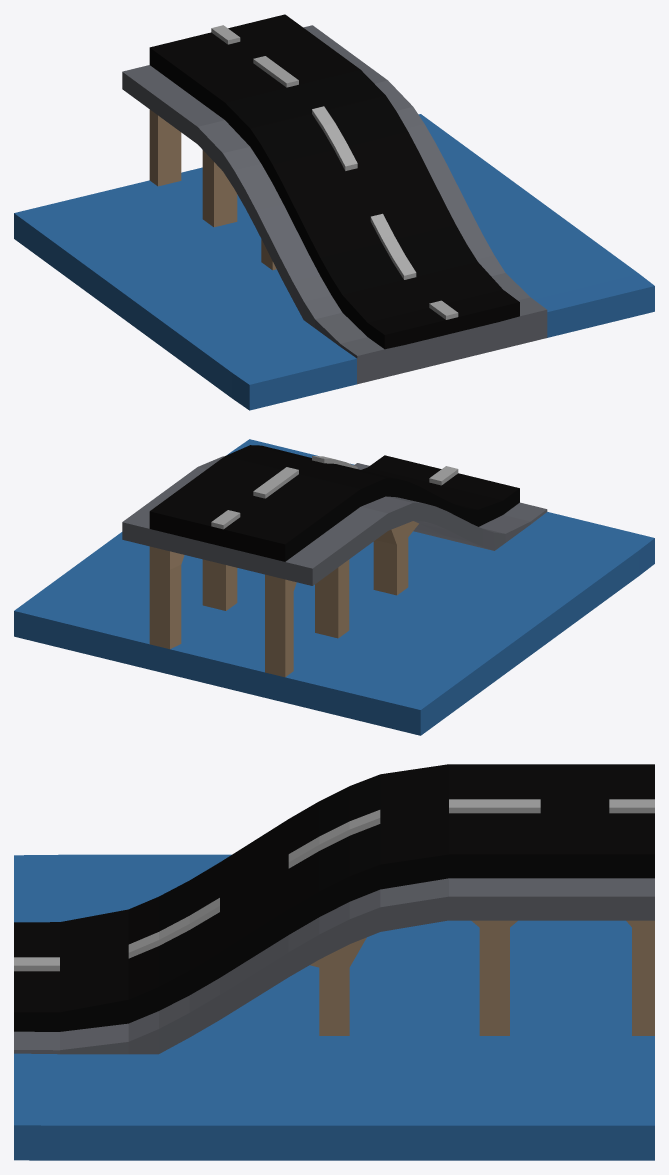
Rendered from Street_Bridge_WaterRamp.glb.
The picture shows the model from 3 angles, top to bottom: view 1: azimuth 30°, elevation 25°; view 2: azimuth 150°, elevation 25°; view 3: azimuth 270°, elevation 25°; orthographic projection. The views are drawn at different scales.
Parts seen in each view (by area): view 1: Street_Bridge_WaterRamp; view 2: Street_Bridge_WaterRamp; view 3: Street_Bridge_WaterRamp.
Part boxes in pixels (x1,y1,x2,y2): Street_Bridge_WaterRamp: [14, 14, 654, 410]; Street_Bridge_WaterRamp: [14, 439, 654, 735]; Street_Bridge_WaterRamp: [14, 764, 654, 1160].
Bounding box in the file's own units: 2 × 0.7638 × 2.
